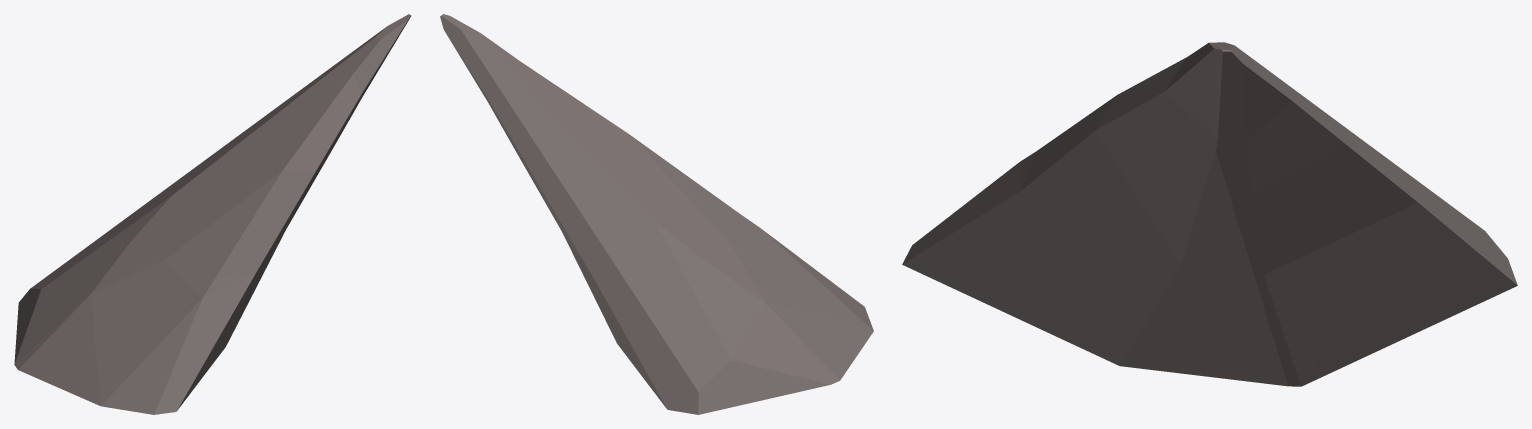
Rendered from Rock_Sharp_l_03.fbx.
The picture shows the model from 3 angles, left to right: view 1: azimuth 30°, elevation 25°; view 2: azimuth 150°, elevation 25°; view 3: azimuth 270°, elevation 25°; orthographic projection. The views are drawn at different scales.
Visible parts, largest first — view 1: Rock_Sharp_l_03; view 2: Rock_Sharp_l_03; view 3: Rock_Sharp_l_03.
Part boxes in pixels (x1=…): Rock_Sharp_l_03: x1=14, y1=14, x2=411, y2=414; Rock_Sharp_l_03: x1=440, y1=14, x2=873, y2=414; Rock_Sharp_l_03: x1=902, y1=42, x2=1517, y2=386.
Bounding box in the file's own units: 678 × 432 × 462.
